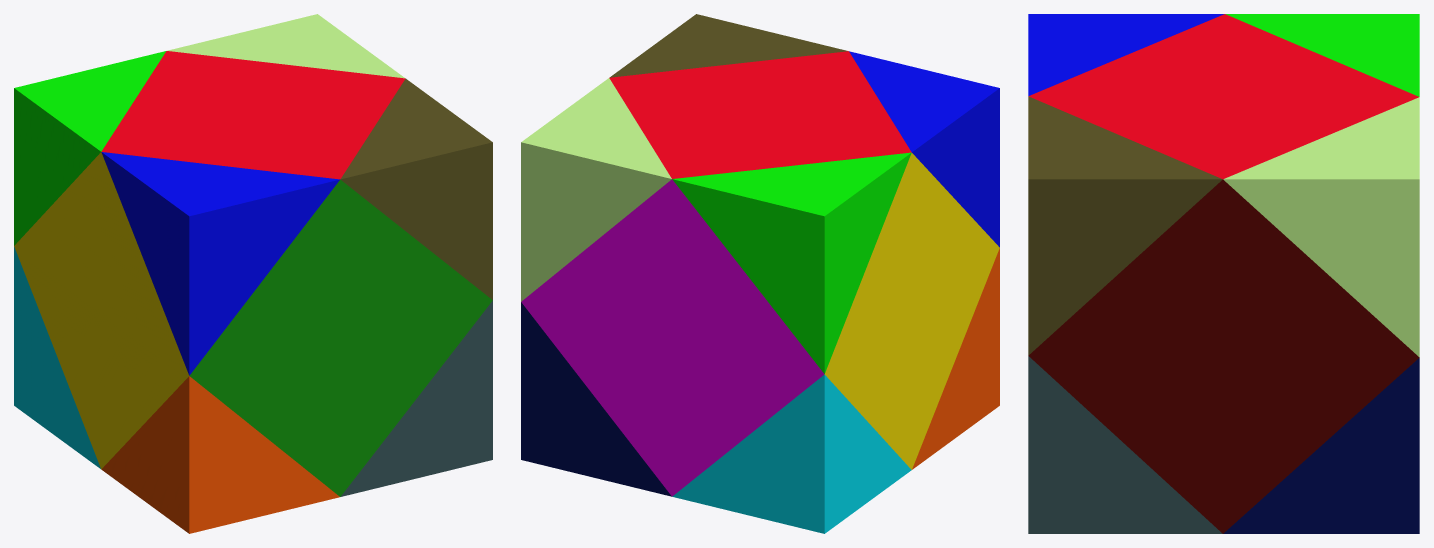
The picture shows the model from 3 angles, left to right: view 1: azimuth 30°, elevation 25°; view 2: azimuth 150°, elevation 25°; view 3: azimuth 270°, elevation 25°; orthographic projection. The views are drawn at different scales.
Parts seen in each view (by area): view 1: 13, 14, 10, 7, 2, 6, 8, 1, 3, 5; view 2: 9, 14, 10, 8, 3, 5, 7, 4, 2, 6; view 3: 12, 10, 5, 6, 1, 4, 7, 8.
Boxes of the visible parts, <box> form: 13: <box>189,179,492,496</box>; 14: <box>14,152,189,469</box>; 10: <box>101,51,405,179</box>; 7: <box>101,152,339,375</box>; 2: <box>101,376,339,533</box>; 6: <box>340,78,492,299</box>; 8: <box>14,51,166,245</box>; 1: <box>341,300,492,496</box>; 3: <box>14,246,100,468</box>; 5: <box>167,14,404,78</box>; 9: <box>521,179,824,496</box>; 14: <box>824,153,999,469</box>; 10: <box>609,51,911,178</box>; 8: <box>672,152,911,373</box>; 3: <box>672,374,911,533</box>; 5: <box>521,78,671,301</box>; 7: <box>849,51,999,247</box>; 4: <box>521,302,671,496</box>; 2: <box>912,248,999,469</box>; 6: <box>610,14,848,77</box>; 12: <box>1028,179,1419,533</box>; 10: <box>1029,14,1418,179</box>; 5: <box>1223,97,1419,356</box>; 6: <box>1028,96,1222,355</box>; 1: <box>1028,356,1222,533</box>; 4: <box>1223,358,1419,533</box>; 7: <box>1028,14,1224,95</box>; 8: <box>1225,14,1419,96</box>.
Bounding box in the file's own units: 1 × 1 × 1.
